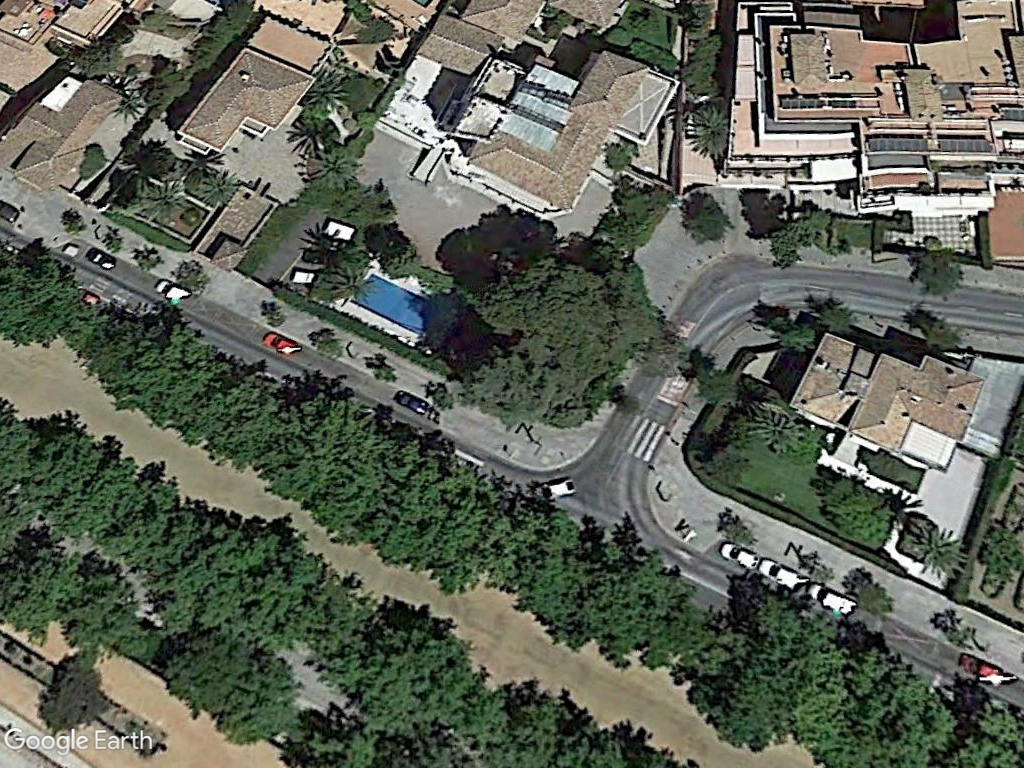car: (758, 550, 808, 596), (957, 647, 1009, 686), (718, 535, 764, 577), (258, 327, 307, 363), (531, 471, 581, 505), (151, 275, 197, 309), (393, 385, 432, 419)
van: (806, 576, 858, 620)
